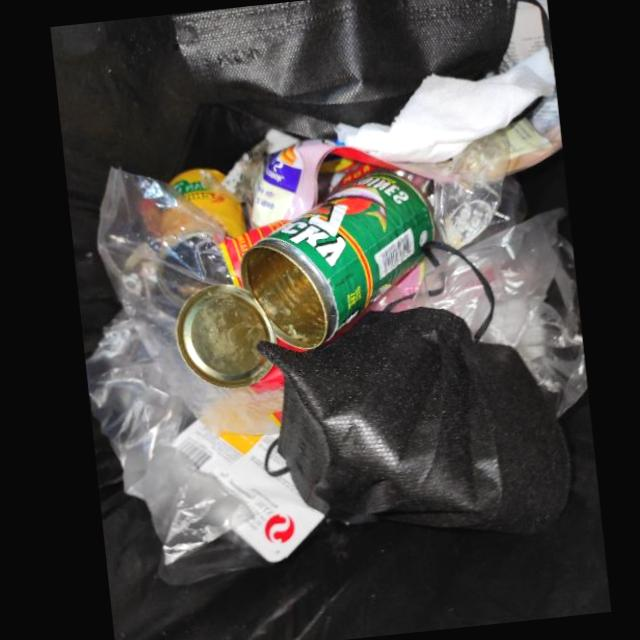bao_bi_thuc_pham: (219, 138, 429, 288), (173, 418, 325, 562), (508, 93, 562, 173)
giay: (336, 0, 556, 162)
khau_trang: (256, 239, 572, 533), (172, 0, 521, 139)
nhom: (175, 172, 435, 387), (168, 167, 247, 237)
tui_ni_long: (88, 164, 284, 562), (373, 206, 588, 416)
